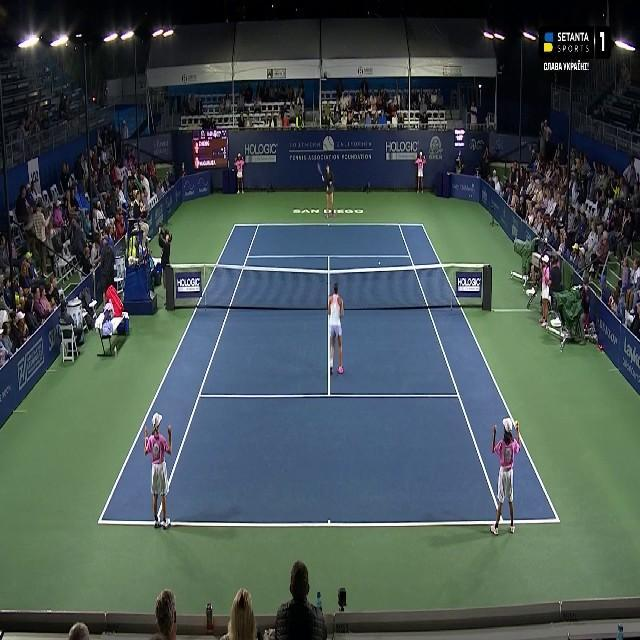left side: (98, 225, 259, 524), (399, 224, 560, 523)
player: (324, 278, 346, 378), (320, 162, 338, 222)
